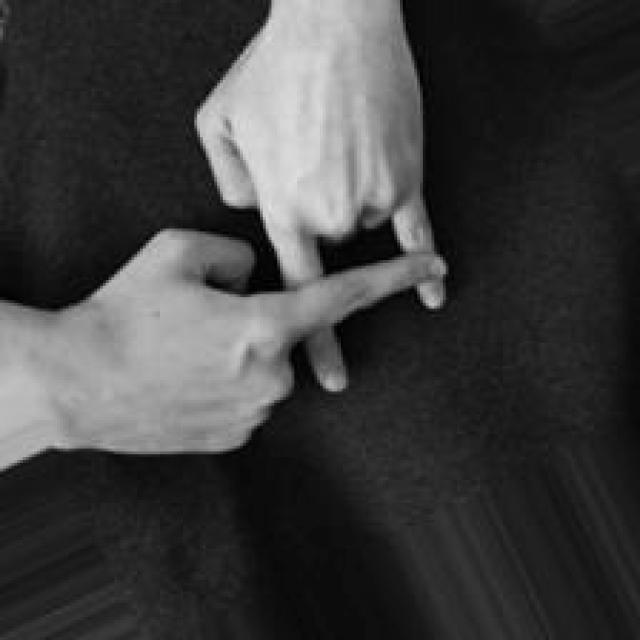H: (0, 0, 452, 471)
